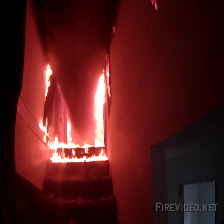fire_h: (95, 70, 106, 148), (52, 150, 109, 162), (49, 136, 94, 148)
fire_l: (44, 64, 52, 103), (39, 118, 51, 143), (105, 55, 110, 98), (66, 118, 72, 141), (151, 1, 158, 9), (112, 24, 115, 34)
